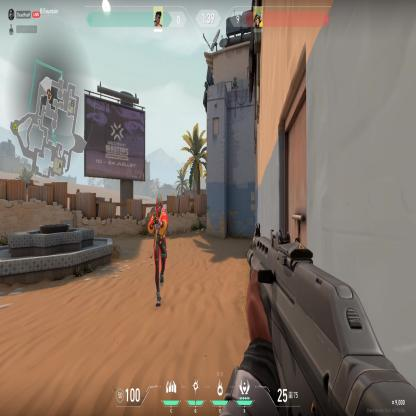enemy: (145, 191, 169, 308)
